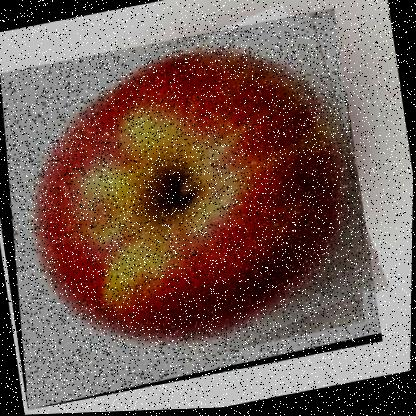apple: (0, 7, 389, 411)
